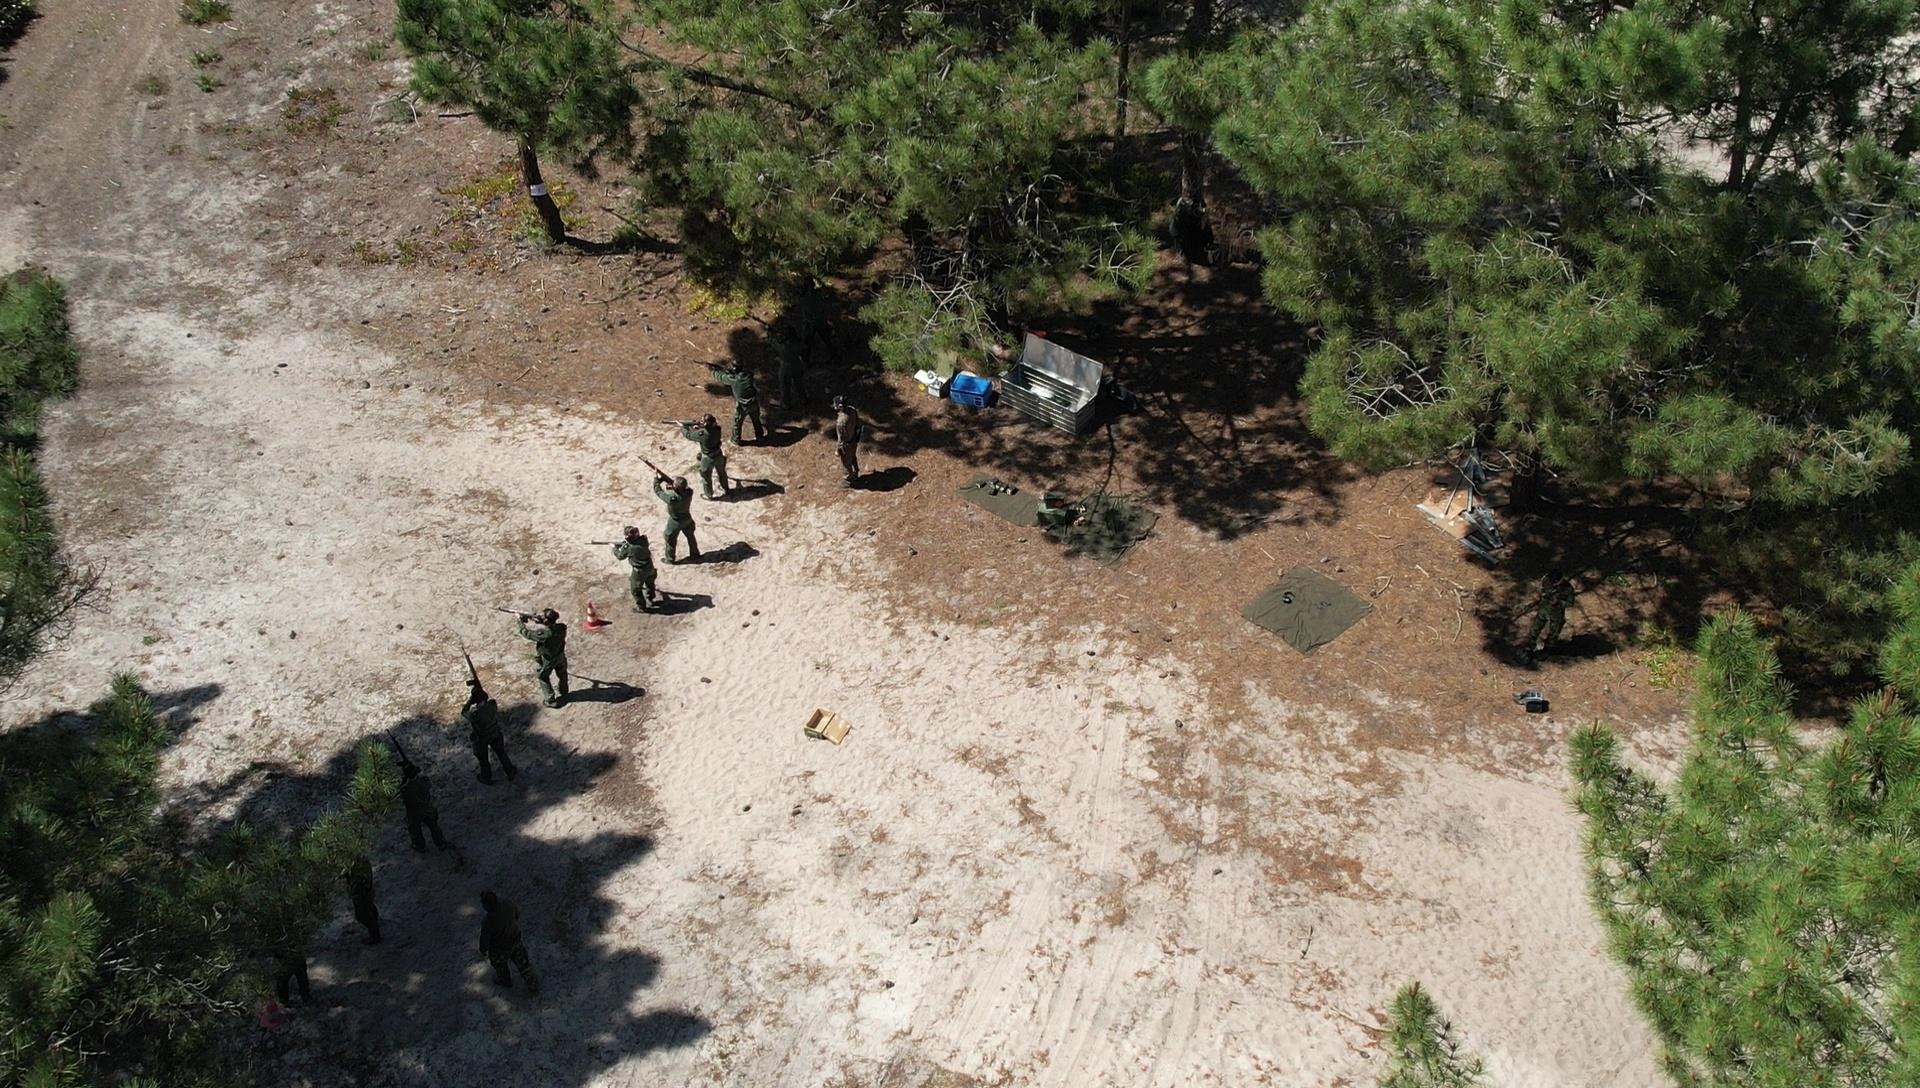Soldier: (609, 504, 671, 644), (680, 390, 738, 526), (394, 727, 448, 868), (462, 655, 516, 795), (638, 443, 698, 562), (1516, 557, 1576, 666), (476, 882, 533, 994), (530, 593, 578, 721), (727, 338, 775, 452), (825, 388, 869, 499)
